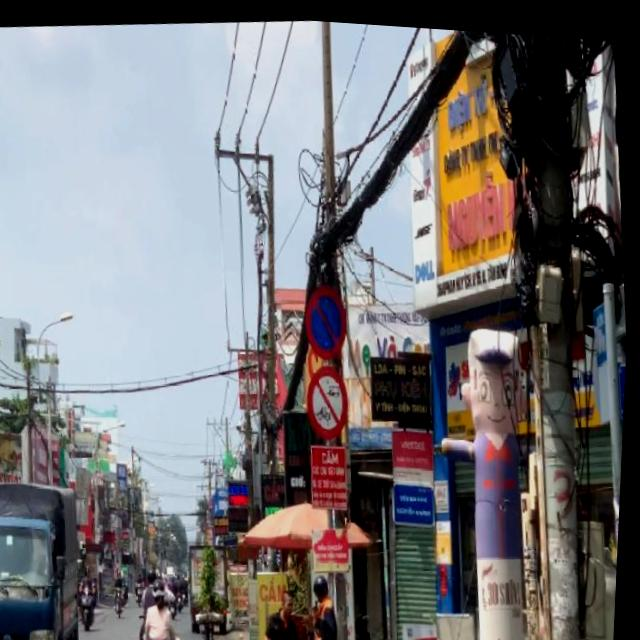Cam do xe: (301, 278, 356, 360)
